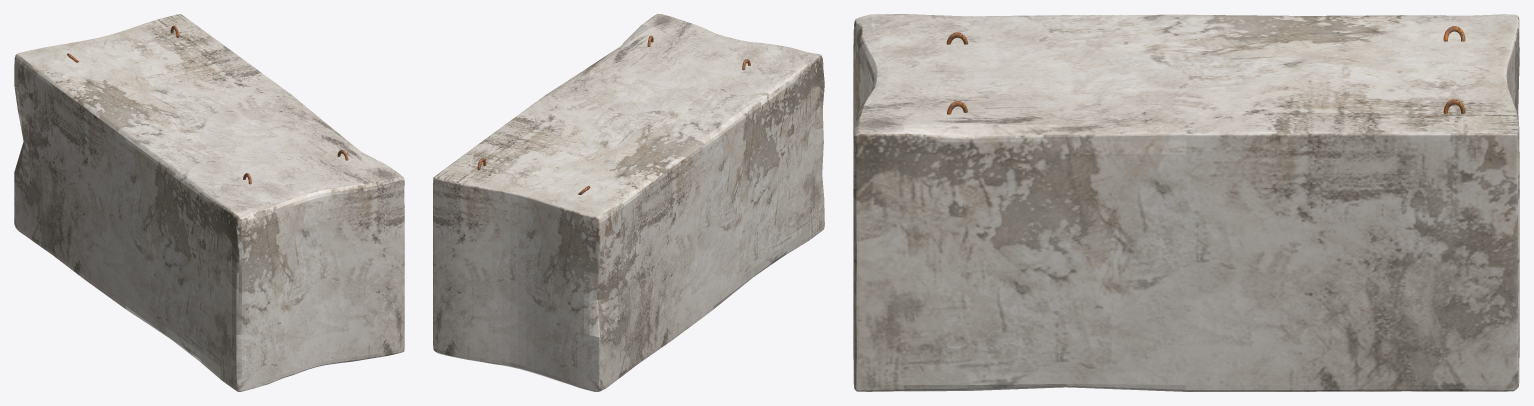
Rendered from Blok_beton_005.fbx.
The picture shows the model from 3 angles, left to right: view 1: azimuth 30°, elevation 25°; view 2: azimuth 150°, elevation 25°; view 3: azimuth 270°, elevation 25°; orthographic projection. The views are drawn at different scales.
Visible parts, largest first — view 1: Cube.001; view 2: Cube.001; view 3: Cube.001.
Boxes of the visible parts, bbox=[...] form: Cube.001: bbox=[14, 14, 404, 391]; Cube.001: bbox=[433, 14, 824, 391]; Cube.001: bbox=[853, 14, 1519, 391].
Size of the model in its own units: 201 by 210 by 464.
Materials: 5 (5 with a texture image).
